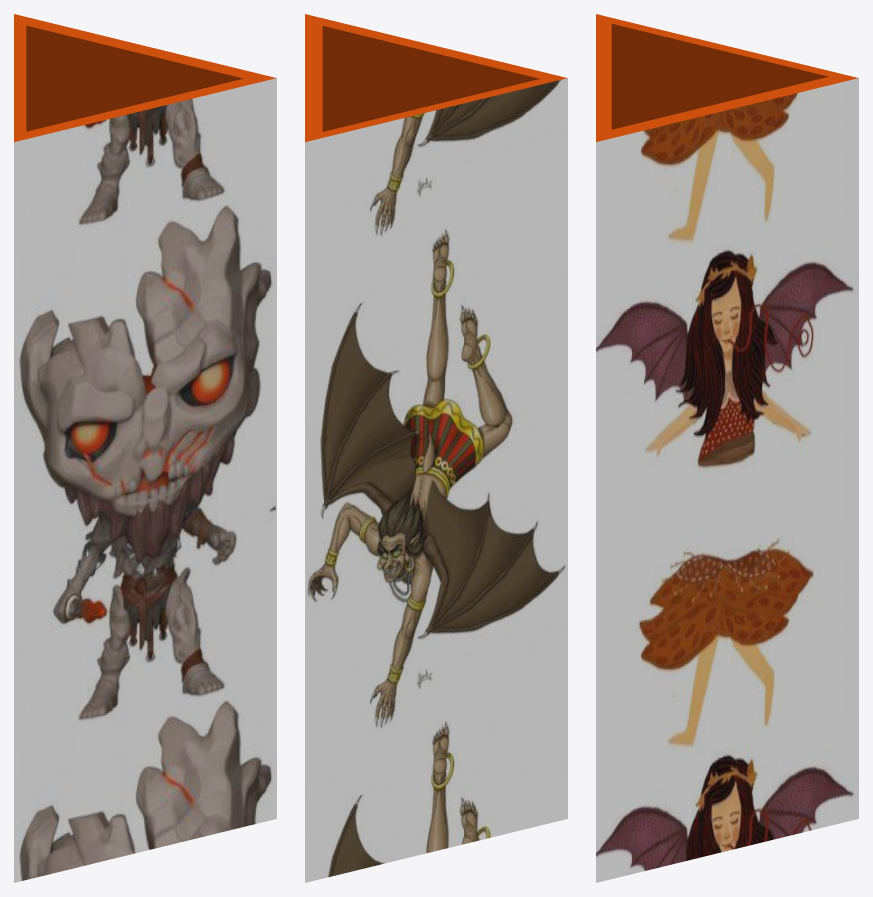
Rendered from triangle_buoy.dae.
The picture shows the model from 3 angles, left to right: view 1: azimuth 30°, elevation 25°; view 2: azimuth 150°, elevation 25°; view 3: azimuth 270°, elevation 25°; orthographic projection.
Visible parts, largest first — view 1: Cylinder; view 2: Cylinder; view 3: Cylinder.
Boxes of the visible parts, left/top/right/bottom form: Cylinder: left=14, top=14, right=276, bottom=882; Cylinder: left=305, top=14, right=567, bottom=882; Cylinder: left=596, top=14, right=858, bottom=882.
Bounding box in the file's own units: 0.4572 × 0.3959 × 1.23.
Materials: 4 (3 with a texture image).
